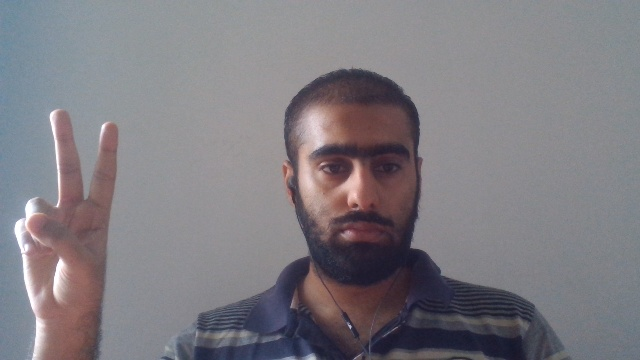scissors: (12, 108, 118, 319)
